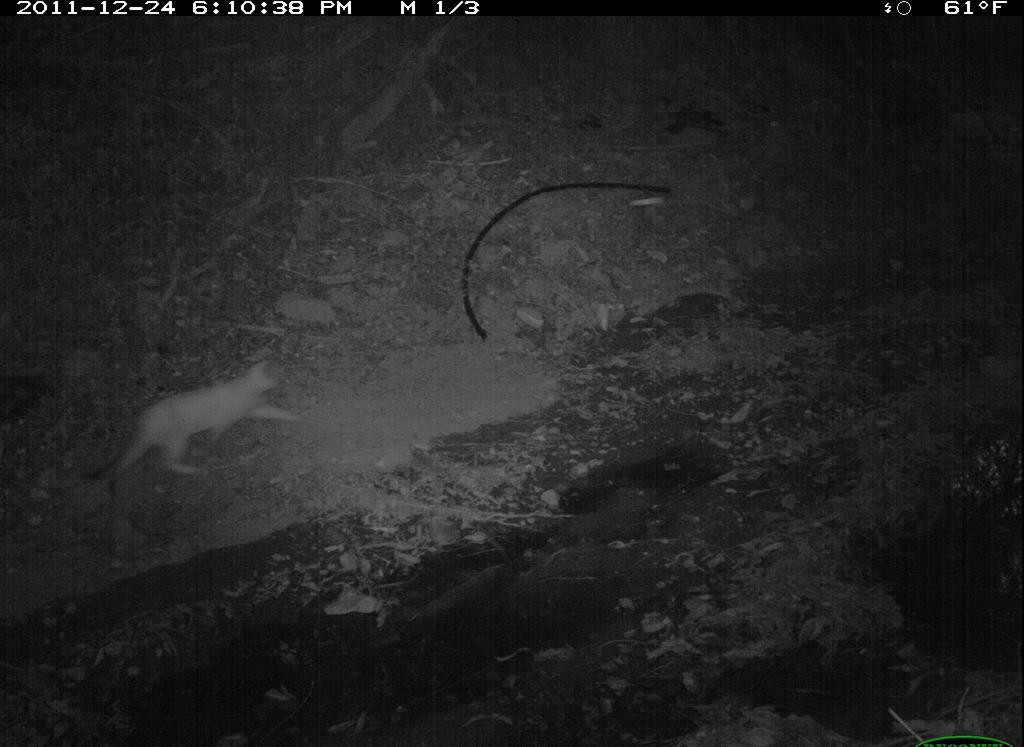cat: (82, 358, 312, 496)
